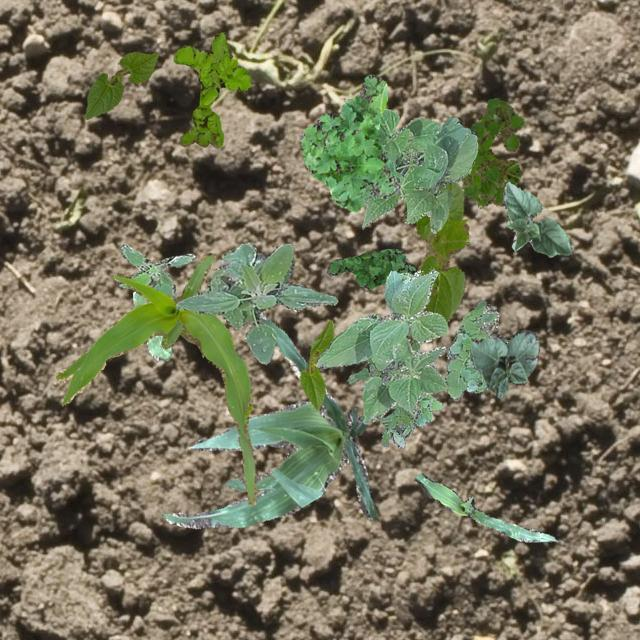crop: (54, 252, 256, 504), (164, 312, 376, 528), (314, 268, 448, 422), (175, 240, 336, 364), (361, 108, 476, 232), (414, 472, 554, 540), (414, 180, 468, 322), (502, 180, 570, 256), (84, 50, 158, 118), (468, 328, 538, 398), (298, 318, 332, 409), (132, 290, 170, 360)
weed: (300, 72, 398, 210), (346, 338, 442, 448), (172, 32, 250, 146), (461, 96, 524, 206), (443, 298, 508, 399), (116, 244, 194, 298), (326, 248, 416, 288), (172, 294, 195, 342)
